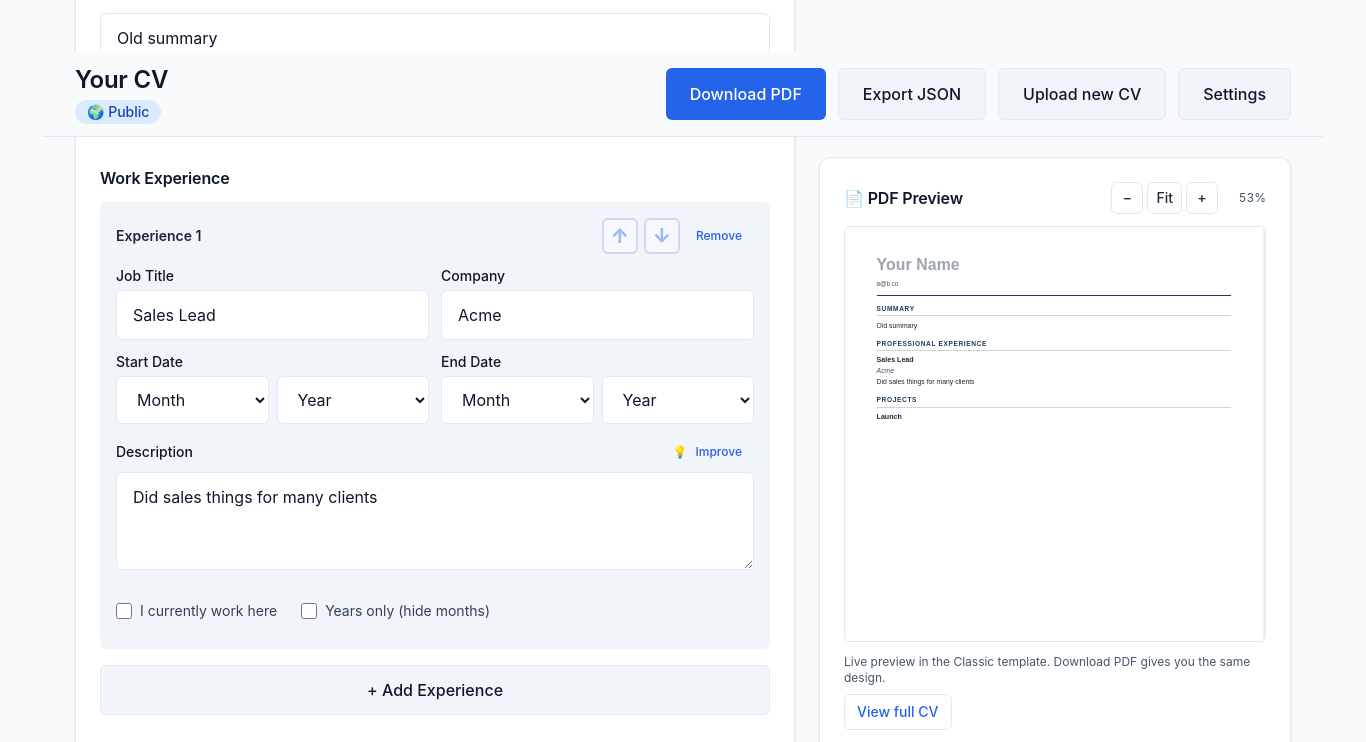
Scenario: 💡 field suggestions › sends the field with its context, and Use suggestion replaces the text and auto-saves it as an edit
(page scrolled)
Step 1. Click the button with aria-label "Improve Experience 1 Description" → (707, 452), box 660,436 -> 754,468
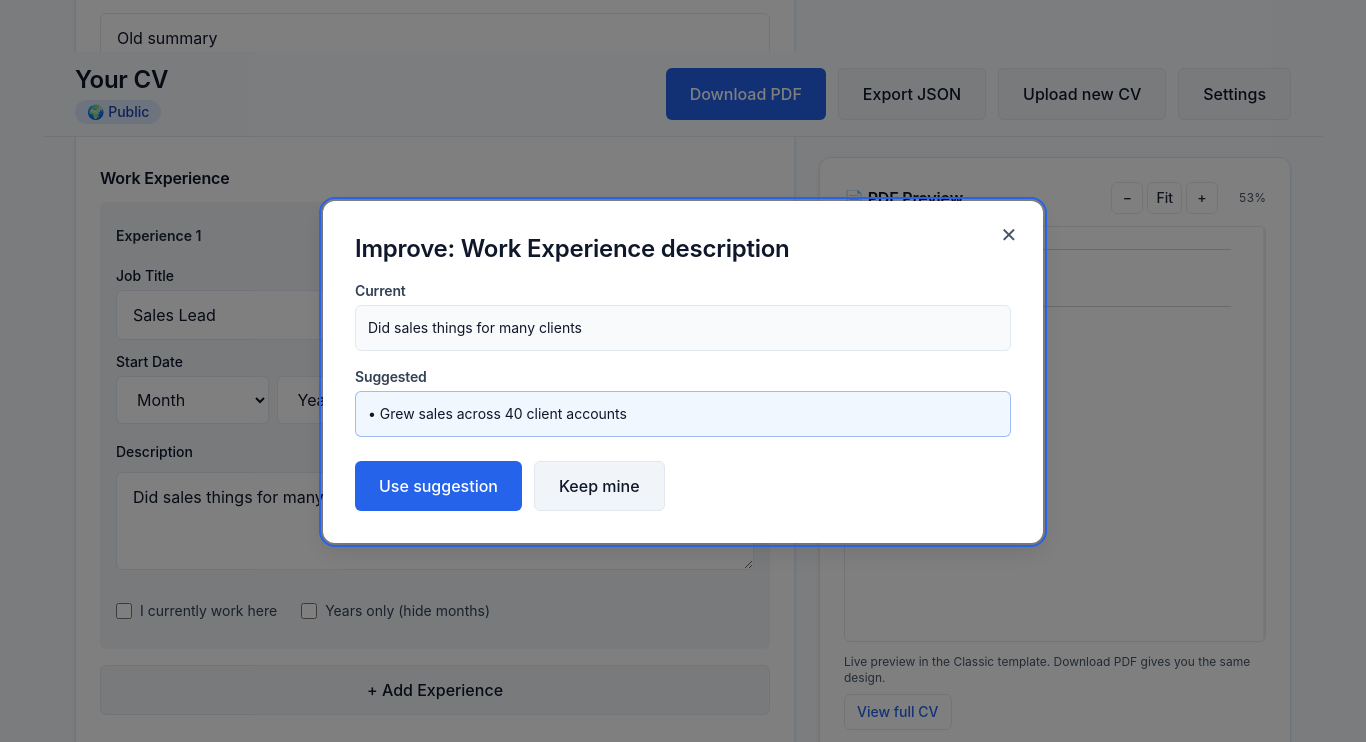
Expected: the element "Current" shows "Did sales things for many clients", 368,319 -> 582,336
Expected: the element "Suggested" shows "• Grew sales across 40 client accounts", 368,405 -> 627,422
Step 2. Click the button "Use suggestion" → (438, 486), box 355,461 -> 522,511
Wait 2000 ms
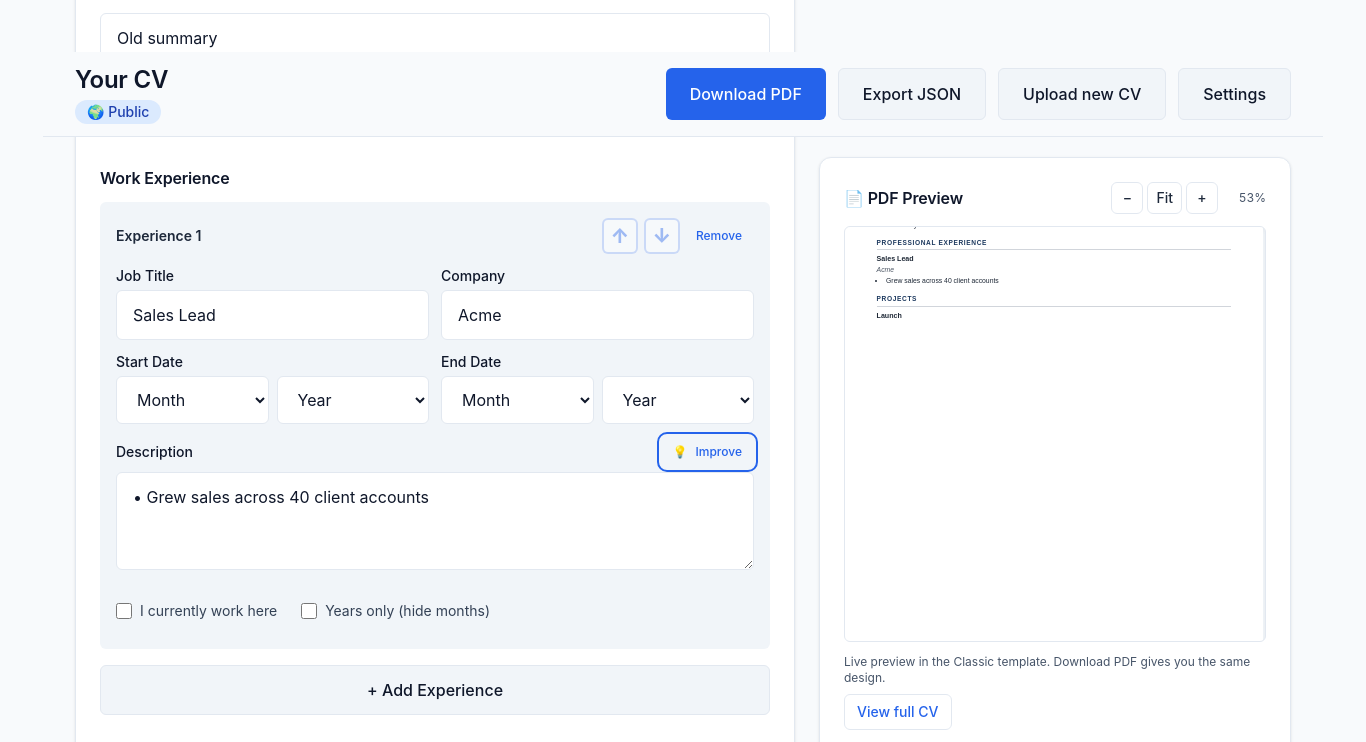
Expected: the dialog is gone
Expected: the text box labelled "Description" holds "• Grew sales across 40 client accounts", 116,472 -> 754,570
